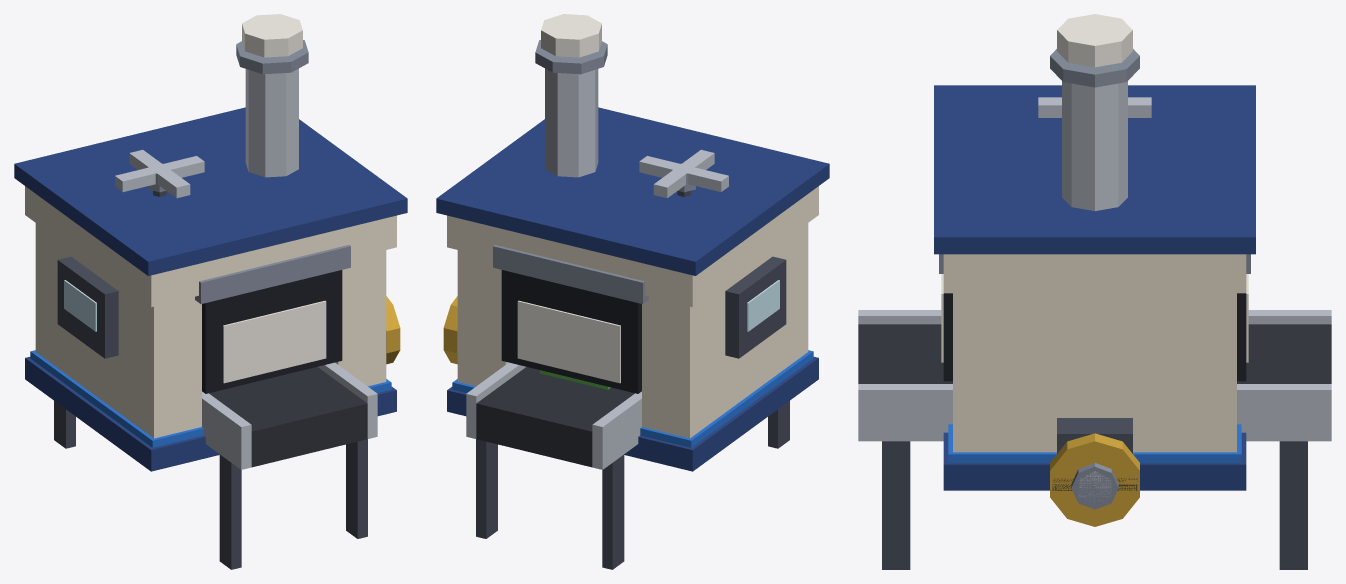
The model's file is finisher.glb.
3 renders of one model, left to right at view 1: azimuth 30°, elevation 25°; view 2: azimuth 150°, elevation 25°; view 3: azimuth 270°, elevation 25°, orthographic. The views are drawn at different scales.
Visible parts, largest first — view 1: finisher, spin-up, spin-x; view 2: finisher, spin-up, spin-x; view 3: finisher, spin-x, spin-up.
Part boxes in pixels (<box>): finisher: <box>14,14,407,569</box>; spin-up: <box>115,149,204,198</box>; spin-x: <box>386,296,400,364</box>; finisher: <box>436,14,829,569</box>; spin-up: <box>639,149,728,198</box>; spin-x: <box>443,296,457,364</box>; finisher: <box>858,14,1331,569</box>; spin-x: <box>1050,433,1139,526</box>; spin-up: <box>1038,97,1151,117</box>.
Size of the model in its own units: 0.904 by 1.25 by 1.
Materials: 3 (3 with a texture image).
